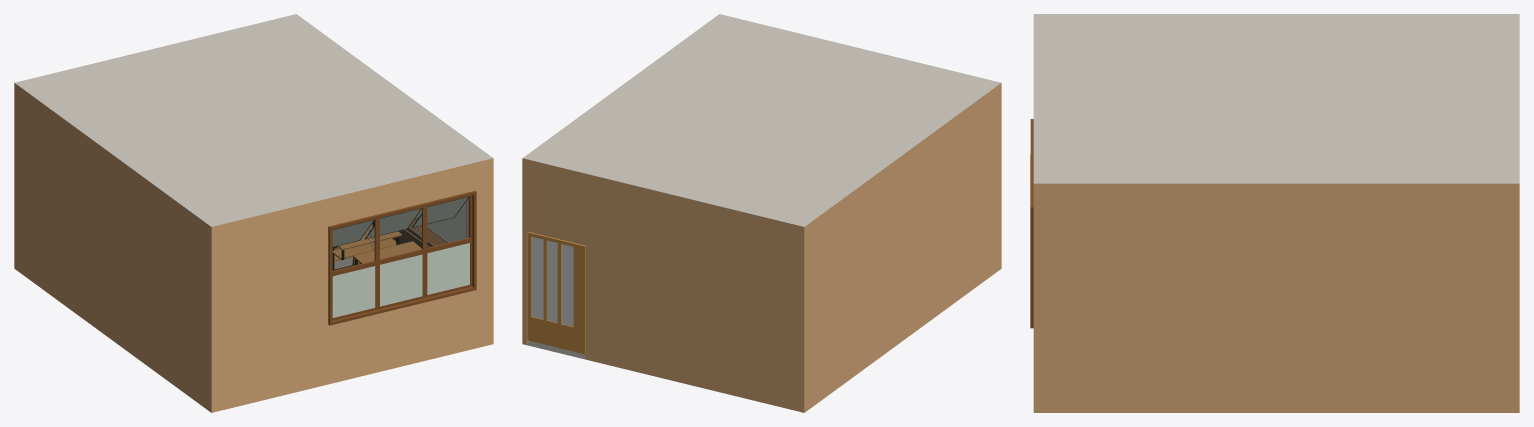
3 renders of one model, left to right at view 1: azimuth 30°, elevation 25°; view 2: azimuth 150°, elevation 25°; view 3: azimuth 270°, elevation 25°, orthographic. The views are drawn at different scales.
Visible parts, largest first — view 1: Cube.132, Cube.131, Cube.208, Cube.340, Cube.286, Cube.346, Cube.348, Cube.350, Cube.371, Cube.341, Cube.330, Cube.308 (+2 smaller); view 2: Cube.132, Cube.197, Cube.208, Cube.148, Cube.385; view 3: Cube.153, Cube.132, Cube.286.
Boxes of the visible parts, bbox=[...] form: Cube.132: bbox=[15, 14, 492, 226]; Cube.131: bbox=[211, 158, 493, 412]; Cube.208: bbox=[14, 83, 211, 412]; Cube.340: bbox=[332, 195, 472, 320]; Cube.286: bbox=[328, 191, 476, 325]; Cube.346: bbox=[332, 266, 375, 317]; Cube.348: bbox=[380, 254, 422, 306]; Cube.350: bbox=[427, 243, 469, 294]; Cube.371: bbox=[415, 202, 465, 242]; Cube.341: bbox=[414, 197, 467, 226]; Cube.330: bbox=[366, 208, 420, 238]; Cube.308: bbox=[332, 220, 373, 246]; Cube.132: bbox=[523, 14, 1000, 226]; Cube.197: bbox=[522, 158, 804, 412]; Cube.208: bbox=[804, 83, 1001, 412]; Cube.148: bbox=[527, 232, 585, 354]; Cube.385: bbox=[531, 237, 573, 326]; Cube.153: bbox=[1033, 183, 1519, 412]; Cube.132: bbox=[1033, 14, 1519, 183]; Cube.286: bbox=[1030, 119, 1033, 328].
Size of the model in its own units: 6.82 by 4.3 by 8.31.
